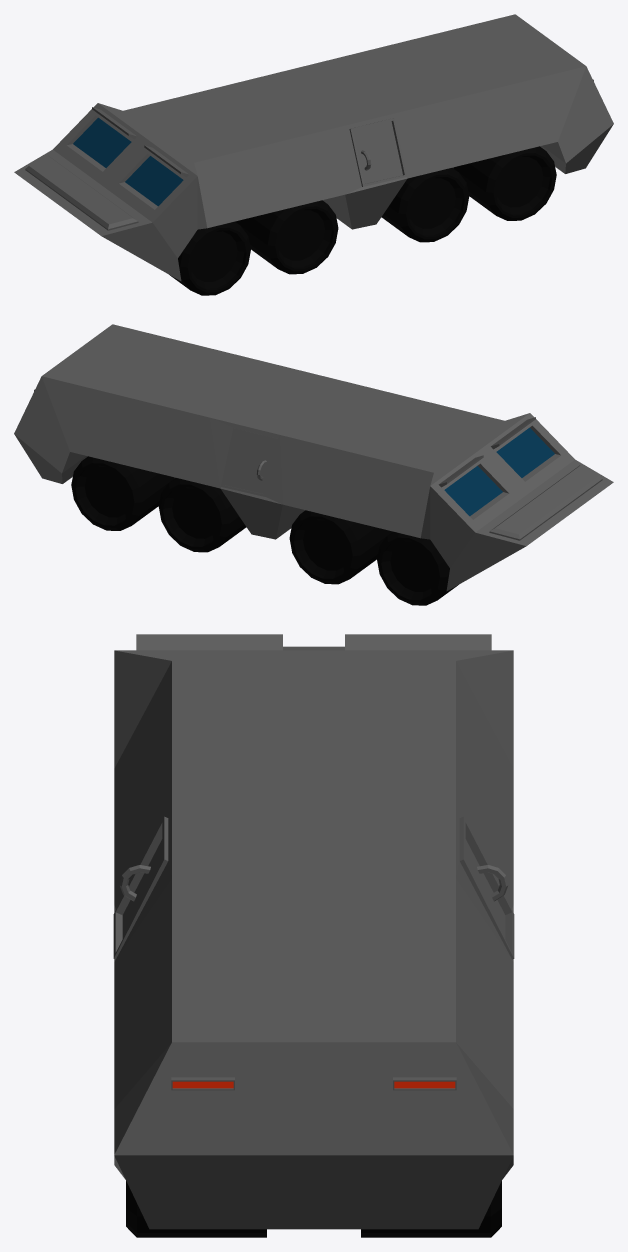
Rendered from BTR82A Vehicle.obj.
3 views of the same model, one above another, from view 1: azimuth 30°, elevation 25°; view 2: azimuth 150°, elevation 25°; view 3: azimuth 270°, elevation 25° (orthographic). The views are drawn at different scales.
Visible parts, largest first — view 1: BTR82A_Vehicle_Cube.001; view 2: BTR82A_Vehicle_Cube.001; view 3: BTR82A_Vehicle_Cube.001.
Boxes of the visible parts, x1,y1,x2,y2 form: BTR82A_Vehicle_Cube.001: (14, 14, 613, 295); BTR82A_Vehicle_Cube.001: (14, 324, 613, 605); BTR82A_Vehicle_Cube.001: (113, 634, 514, 1237).
Bounding box in the file's own units: 9.56 × 2.38 × 3.28.
